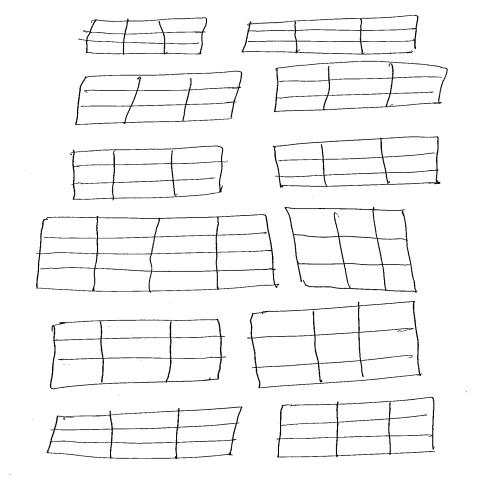Table: (34, 213, 276, 292), (247, 300, 420, 389), (49, 318, 223, 389), (284, 206, 416, 293), (45, 405, 242, 460), (276, 396, 436, 458), (72, 70, 243, 126), (272, 59, 448, 113), (270, 135, 440, 188), (71, 144, 224, 201), (239, 14, 418, 55), (82, 16, 208, 56)
